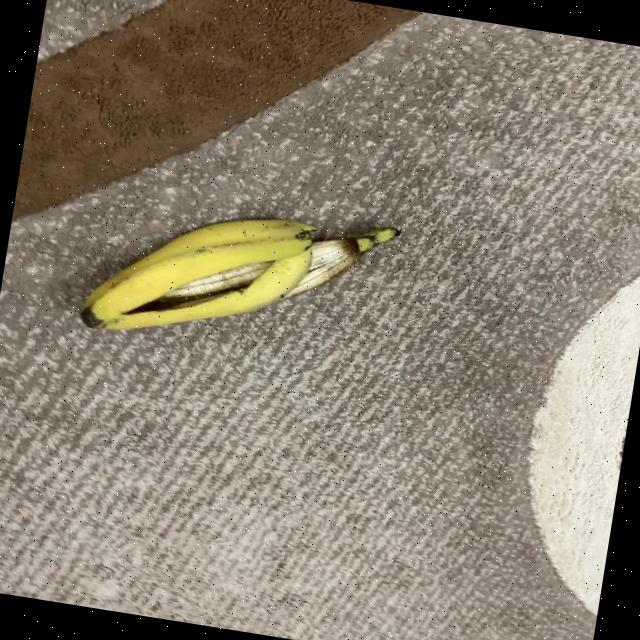banana-peel: (77, 178, 402, 375)
